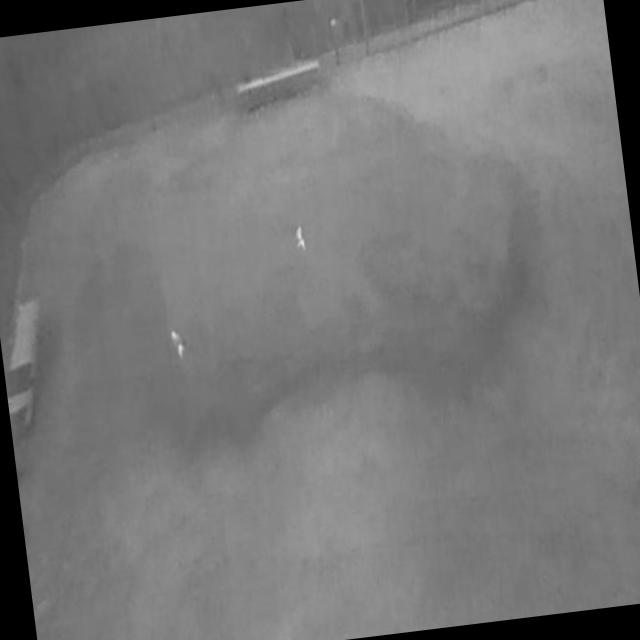person: (170, 329, 190, 361), (293, 225, 308, 255)
